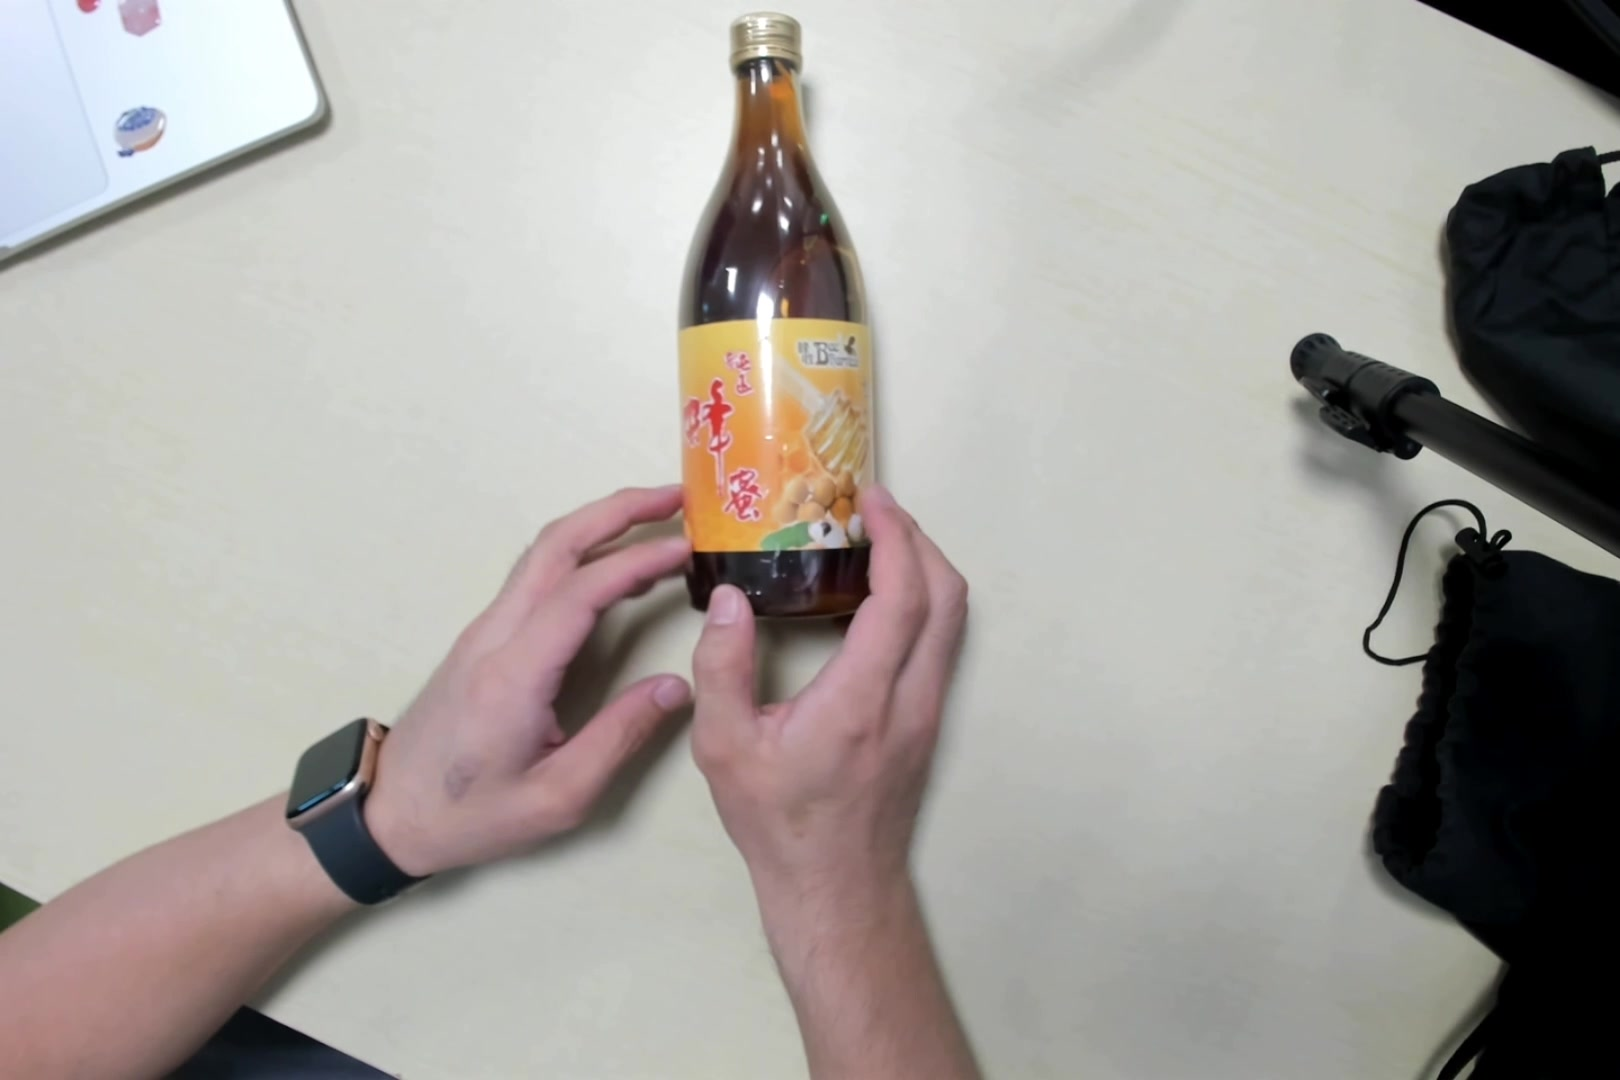OtherBakingNeeds_700-799g_Halal_NonHealthy: (685, 17, 884, 622)
